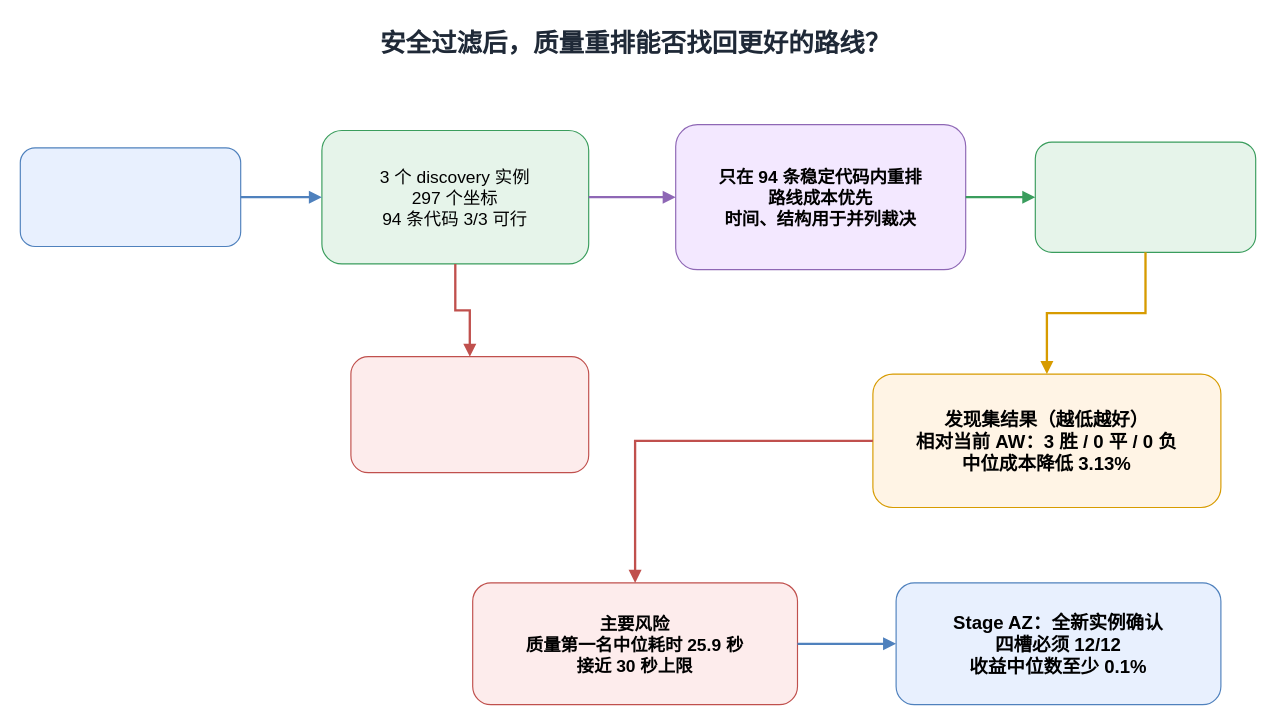
Some shapes in this 1276 by 725 pixel diagram are drawn without their labels. The shapes that lost their labels are listed below. From the top down, each one's centre as x and y in pixels, then its label:
At [130,196]: "Stage AW 安全集合 99 条代码".
At [1145,196]: "新四槽 12/12 可行 4 种路线成本行为".
At [469,414]: "5 条不稳定代码 共 13 次超时 不进入候选档案".
